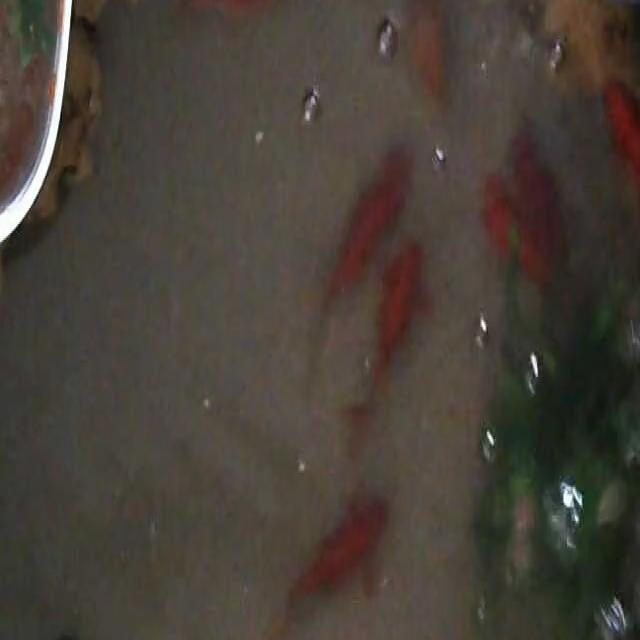fish: (265, 492, 391, 640), (315, 140, 414, 325), (345, 235, 427, 430), (481, 127, 568, 301), (600, 75, 640, 272), (409, 0, 446, 108), (484, 189, 526, 275), (186, 0, 305, 21)
